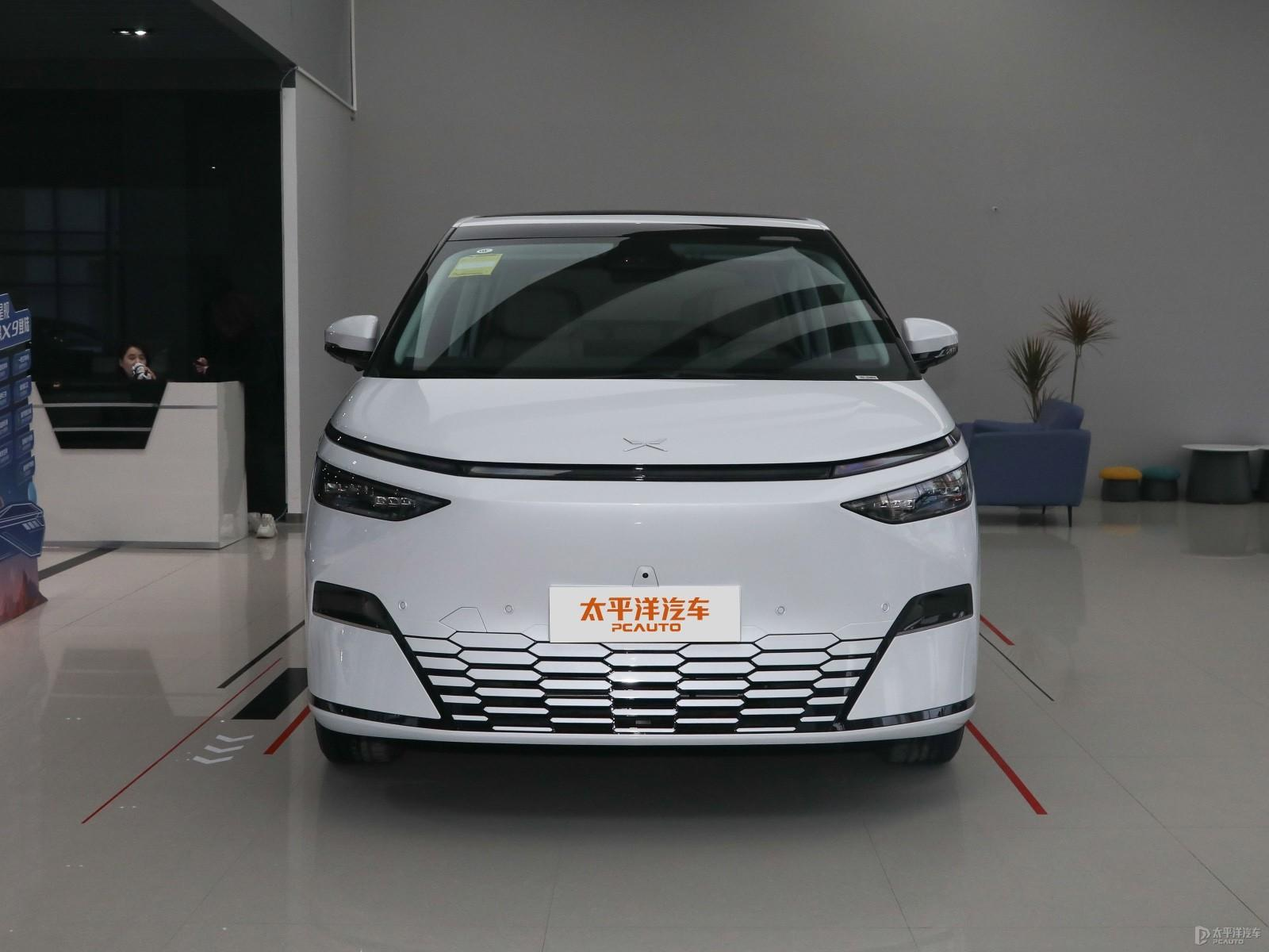XPeng Motors: (623, 436, 669, 452)
